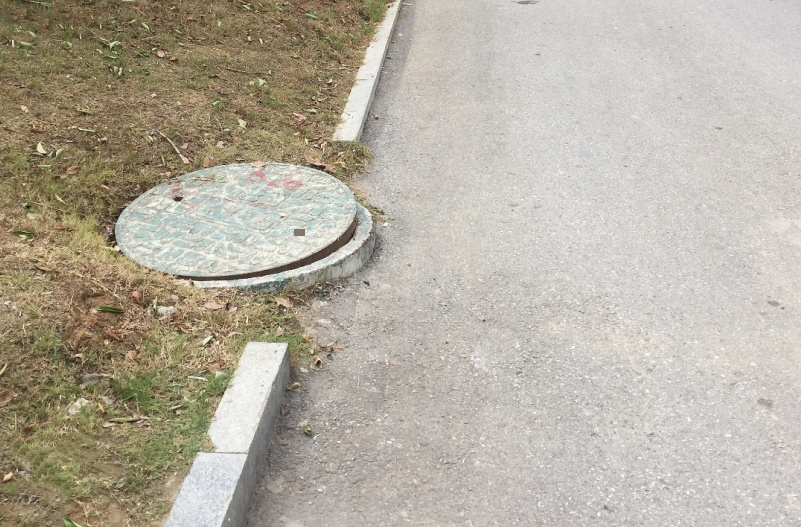uncovered: (115, 162, 376, 286)
